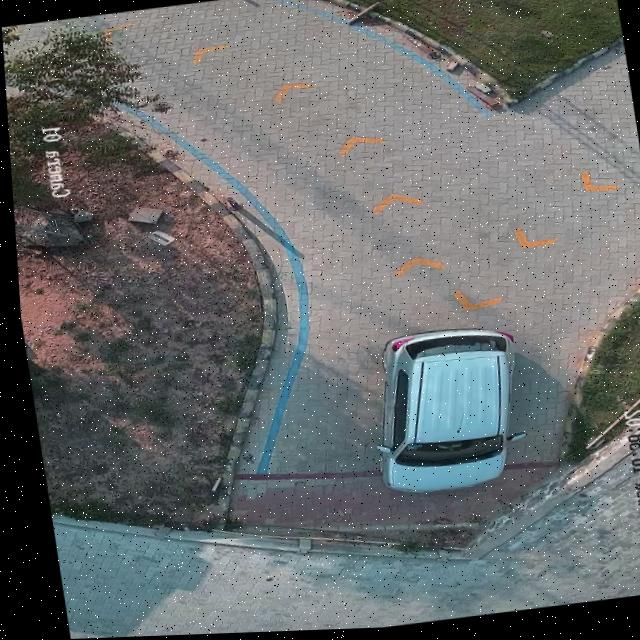car: (371, 331, 509, 496)
